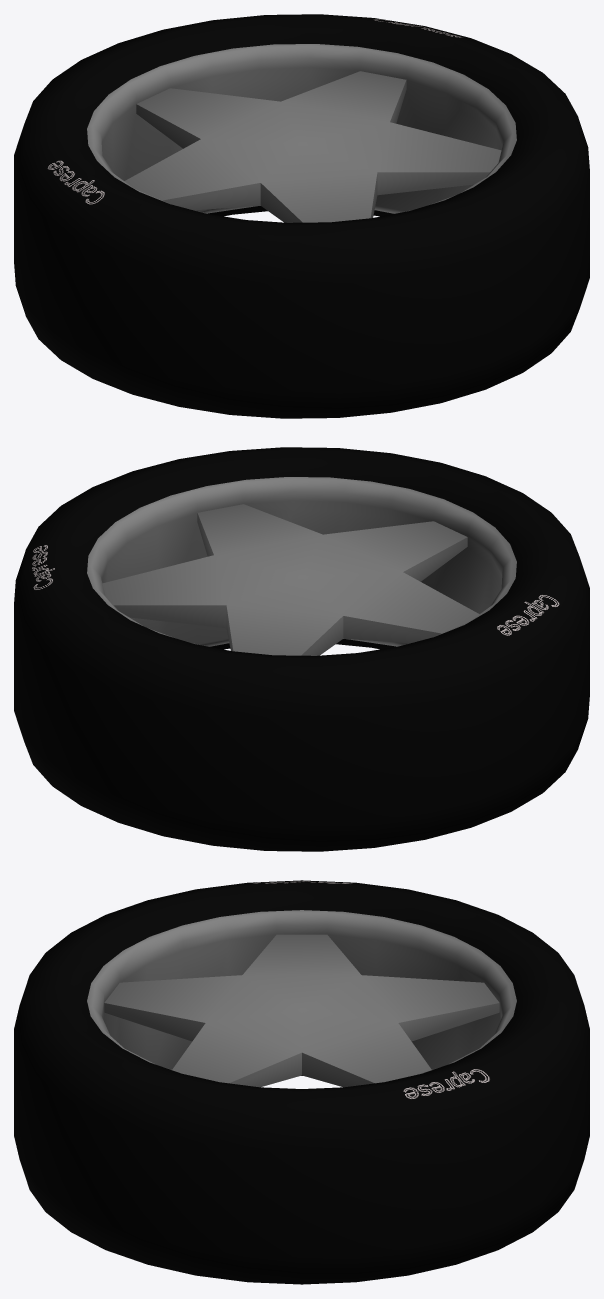
The model's file is Wheel.glb.
The picture shows the model from 3 angles, top to bottom: view 1: azimuth 30°, elevation 25°; view 2: azimuth 150°, elevation 25°; view 3: azimuth 270°, elevation 25°; orthographic projection.
Parts seen in each view (by area): view 1: Wheel, Rim; view 2: Wheel, Rim; view 3: Wheel, Rim.
Part boxes in pixels (bbox=[...]): Wheel: bbox=[14, 14, 589, 418]; Rim: bbox=[87, 44, 516, 222]; Wheel: bbox=[14, 447, 589, 851]; Rim: bbox=[87, 477, 516, 655]; Wheel: bbox=[14, 880, 589, 1284]; Rim: bbox=[87, 910, 516, 1087].
Bounding box in the file's own units: 0.6867 × 0.2503 × 0.6867.
2 materials, 2 textured.
